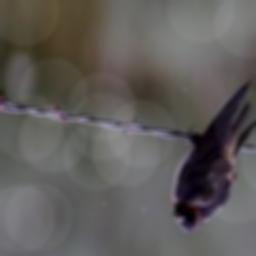Swallow: (169, 79, 256, 235)
